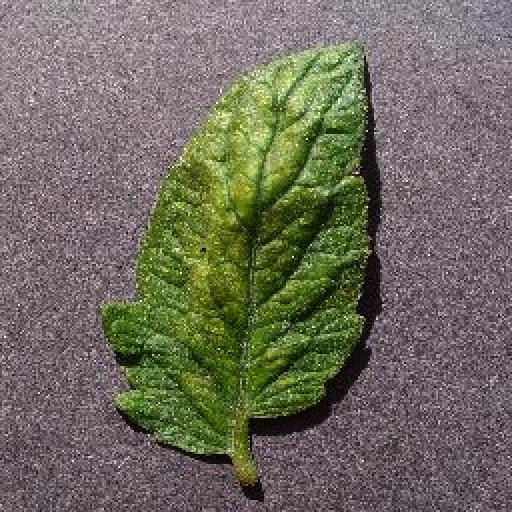disease_tomato: (99, 38, 371, 458)
